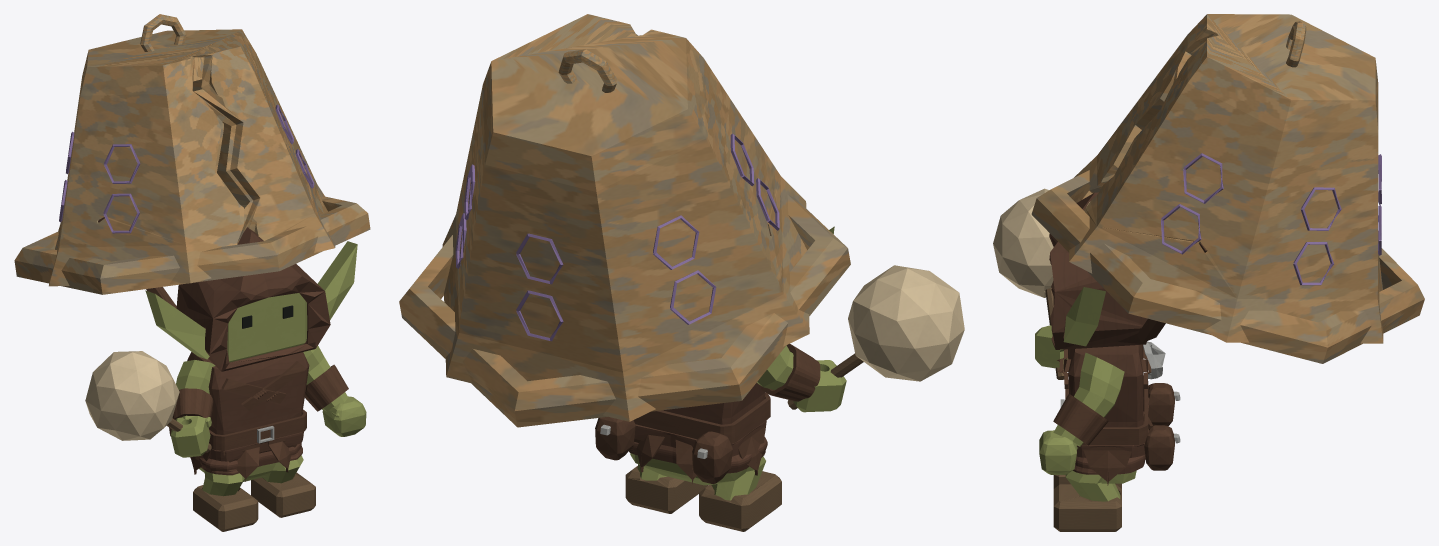
File: host_12.glb
3 views of the same model, side by side, from view 1: azimuth 30°, elevation 25°; view 2: azimuth 150°, elevation 25°; view 3: azimuth 270°, elevation 25° (orthographic). The views are drawn at different scales.
Visible parts, largest first — view 1: Huge faceted bronze bell carried on back, Pointed brown hood - hollow outer cloth, RIGHT source ivory bone mallet head, Source connected torso mass, One continuous source skull, RIGHT source planted boot, LEFT source planted boot, Source carrier broad temple ear 1, Source fitted ragged hem, Source carrier broad temple ear -1, Source carrier complete brown waist band, RIGHT real compact source grasp source compact planar grasp (+12 smaller); view 2: Huge faceted bronze bell carried on back, RIGHT source ivory bone mallet head, RIGHT source planted boot, Source carrier complete brown waist band, LEFT source planted boot, Source carried rear brown leather pouch 1, Source fitted ragged hem, RIGHT fitted source hollow leather bracer, Source connected torso mass, RIGHT real compact source grasp source compact planar grasp, Source carried rear brown leather pouch -1, Bell top actual bronze loop (+4 smaller); view 3: Huge faceted bronze bell carried on back, Pointed brown hood - hollow outer cloth, RIGHT source ivory bone mallet head, Source connected torso mass, LEFT source planted boot, LEFT full actual connected arm, Source carrier broad temple ear -1, LEFT fitted source hollow leather bracer, LEFT compact curled source fist, Source carrier complete brown waist band, Source carried rear brown leather pouch -1, Source carrier ragged brown waist leather 3 (+6 smaller).
Boxes of the visible parts, x1,y1,x2,y2 form: Huge faceted bronze bell carried on back: (14,29,370,294); Pointed brown hood - hollow outer cloth: (176,227,330,371); RIGHT source ivory bone mallet head: (85,351,179,440); Source connected torso mass: (187,352,309,434); One continuous source skull: (227,293,307,362); RIGHT source planted boot: (193,485,258,531); LEFT source planted boot: (251,472,315,517); Source carrier broad temple ear 1: (145,290,209,359); Source fitted ragged hem: (190,432,303,475); Source carrier broad temple ear -1: (317,241,357,319); Source carrier complete brown waist band: (209,409,306,450); RIGHT real compact source grasp source compact planar grasp: (170,416,211,457); Huge faceted bronze bell carried on back: (399,14,850,427); RIGHT source ivory bone mallet head: (848,265,964,381); RIGHT source planted boot: (699,471,781,531); Source carrier complete brown waist band: (633,392,770,443); LEFT source planted boot: (625,466,708,513); Source carried rear brown leather pouch 1: (692,431,732,483); Source fitted ragged hem: (628,419,767,473); RIGHT fitted source hollow leather bracer: (760,343,820,401); Source connected torso mass: (663,382,765,424); RIGHT real compact source grasp source compact planar grasp: (793,360,846,412); Source carried rear brown leather pouch -1: (595,416,635,460); Bell top actual bronze loop: (558,49,617,92); Huge faceted bronze bell carried on back: (1031,14,1424,363); Pointed brown hood - hollow outer cloth: (1049,192,1147,349); RIGHT source ivory bone mallet head: (993,188,1053,297); Source connected torso mass: (1068,344,1143,427); LEFT source planted boot: (1053,484,1121,531); LEFT full actual connected arm: (1053,352,1124,446); Source carrier broad temple ear -1: (1063,287,1105,346); LEFT fitted source hollow leather bracer: (1053,394,1108,445); LEFT compact curled source fist: (1039,430,1077,474); Source carrier complete brown waist band: (1065,380,1148,445); Source carried rear brown leather pouch -1: (1144,425,1174,470); Source carrier ragged brown waist leather 3: (1083,445,1131,485).
Bounding box in the file's own units: 1.1 × 1.38 × 1.12.
Materials: 9 (8 with a texture image).
